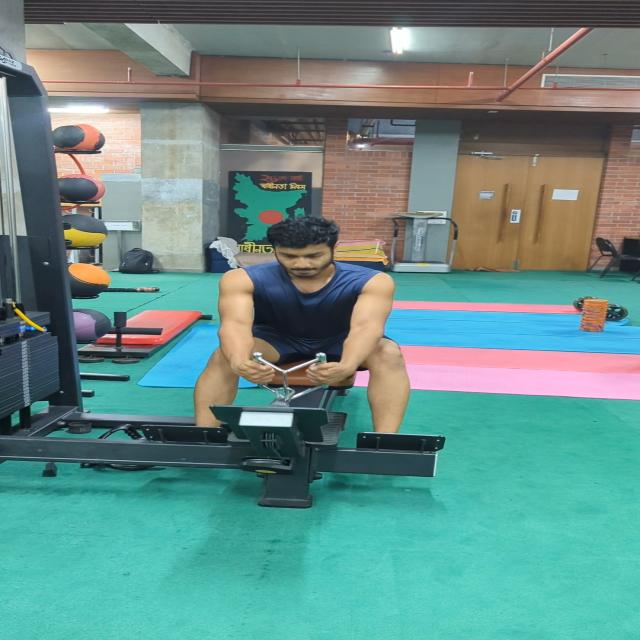Normal_RowingMachineExercise: (185, 211, 410, 439)
